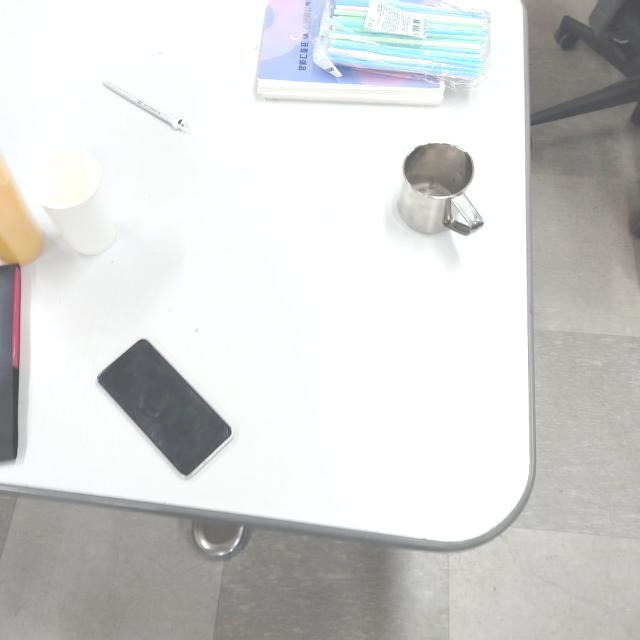cup: (396, 139, 486, 241)
phone: (96, 333, 239, 481)
